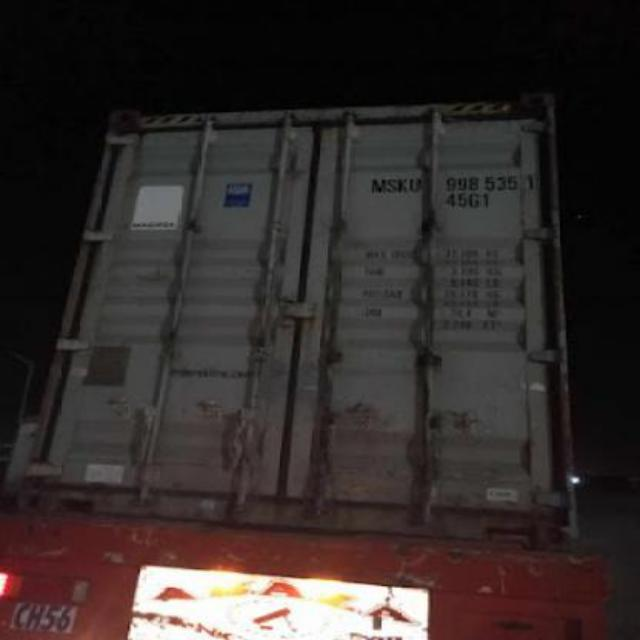1: (522, 170, 536, 192)
3: (494, 170, 506, 192)
5: (504, 168, 520, 196), (481, 170, 494, 192)
8: (468, 170, 480, 192)
9: (454, 170, 468, 194), (444, 172, 456, 194)
K: (396, 172, 408, 195)
M: (370, 173, 386, 197)
S: (386, 173, 398, 197)
U: (408, 169, 420, 195)
